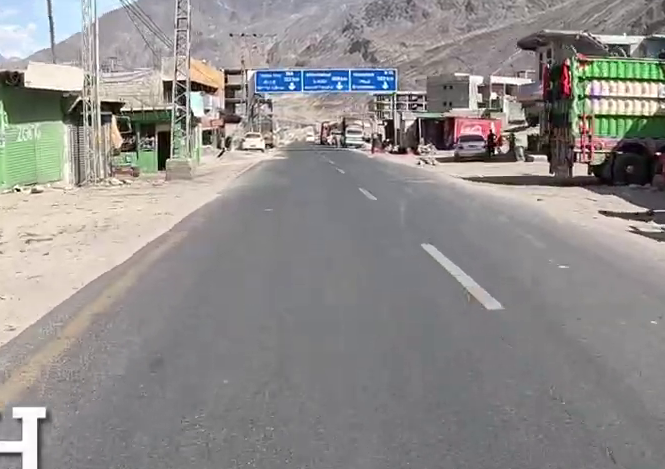left: (247, 165, 559, 378)
